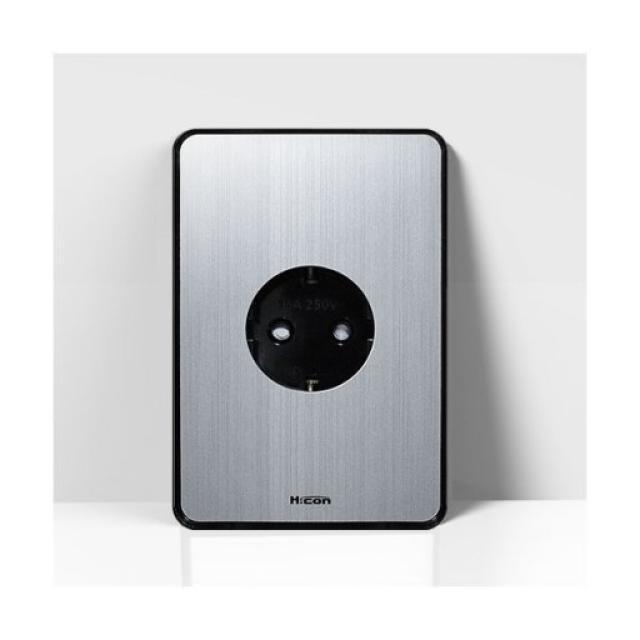typeb: (150, 99, 520, 614)
